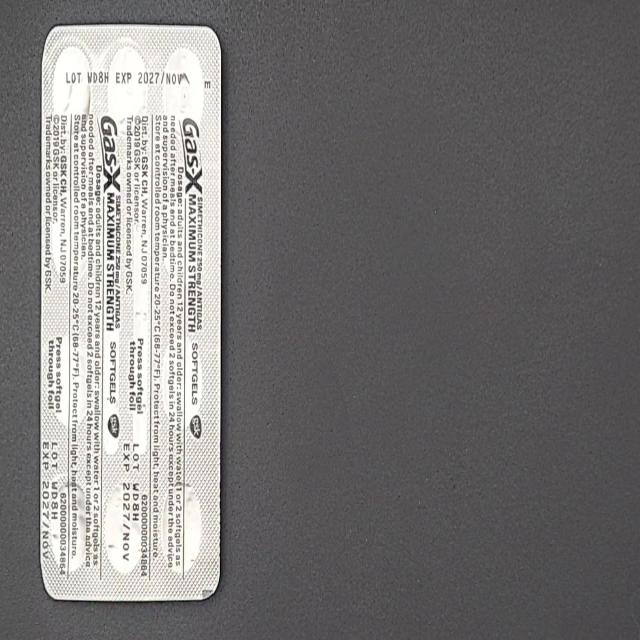no defect: (6, 14, 32, 71)
